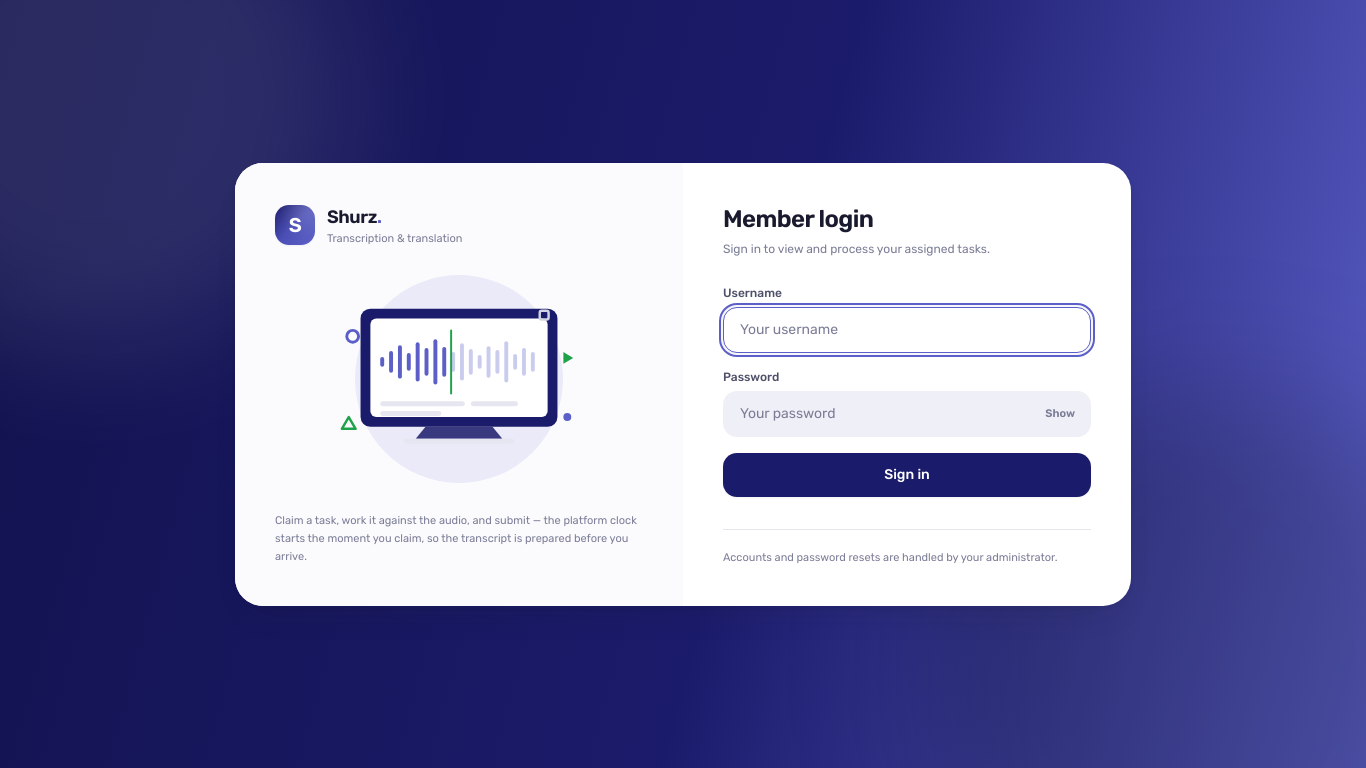
it: authentication › toggles password visibility without losing what was typed
The image size is (1366, 768).
Type "secret-phrase" into the password field labelled "Password" at (907, 414), box [723,390,1091,436]
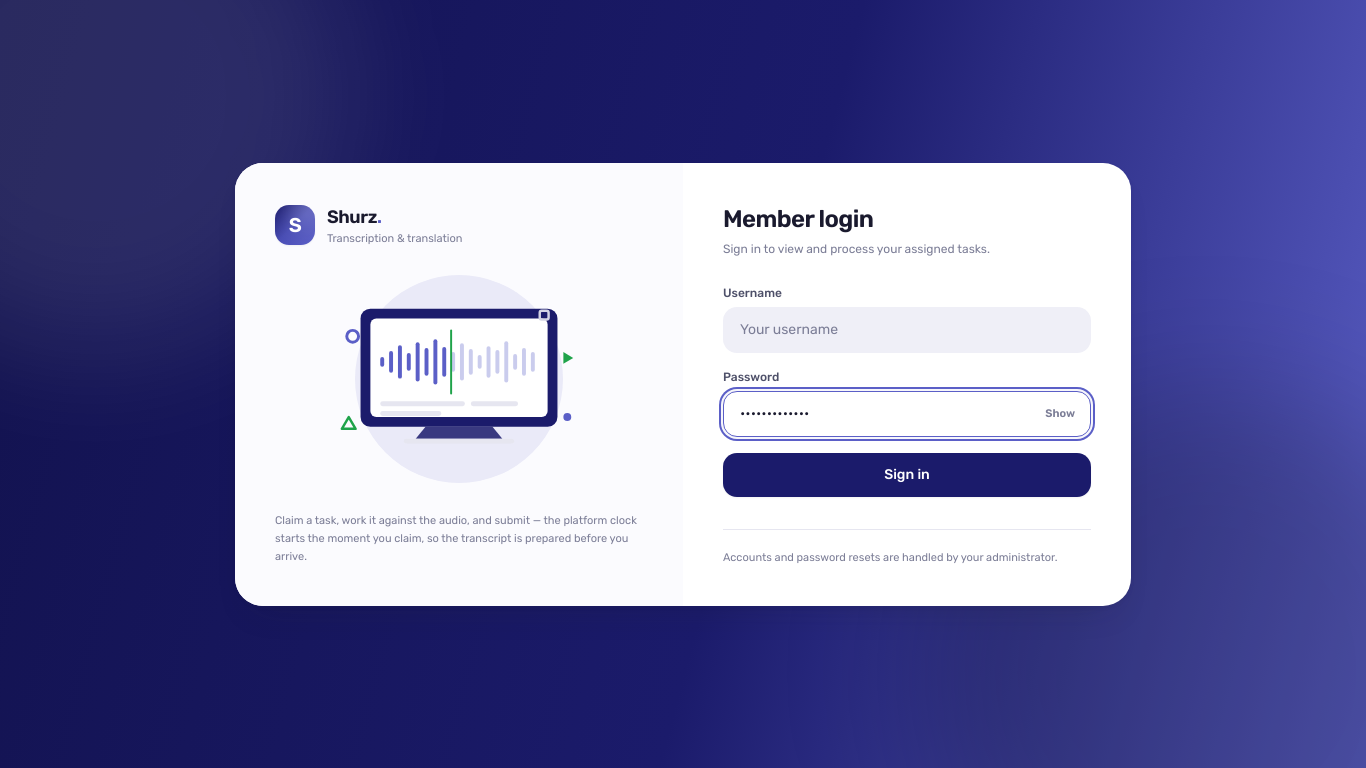
Click the button "Show" at (1060, 414), box [1029,390,1091,436]
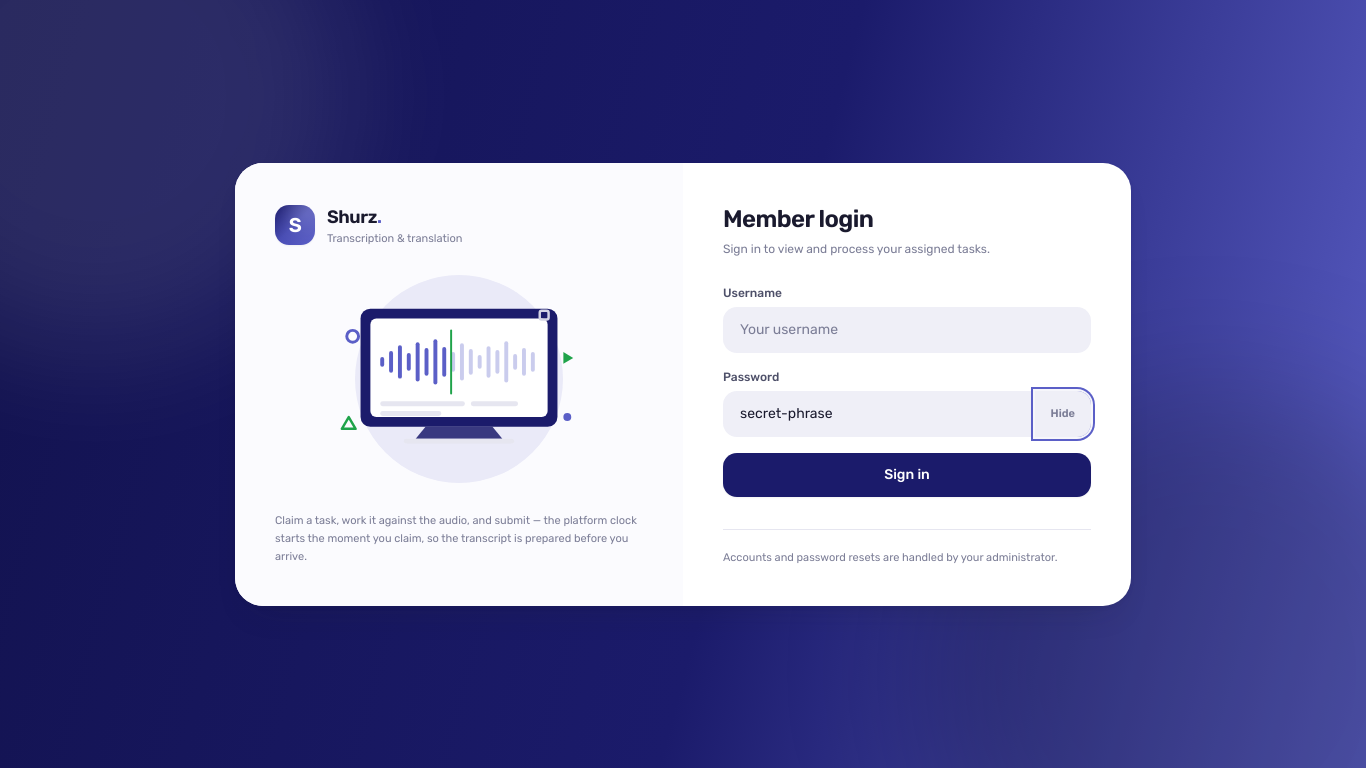
Now the field labelled "Password" shows its text, box [723,390,1091,436]
